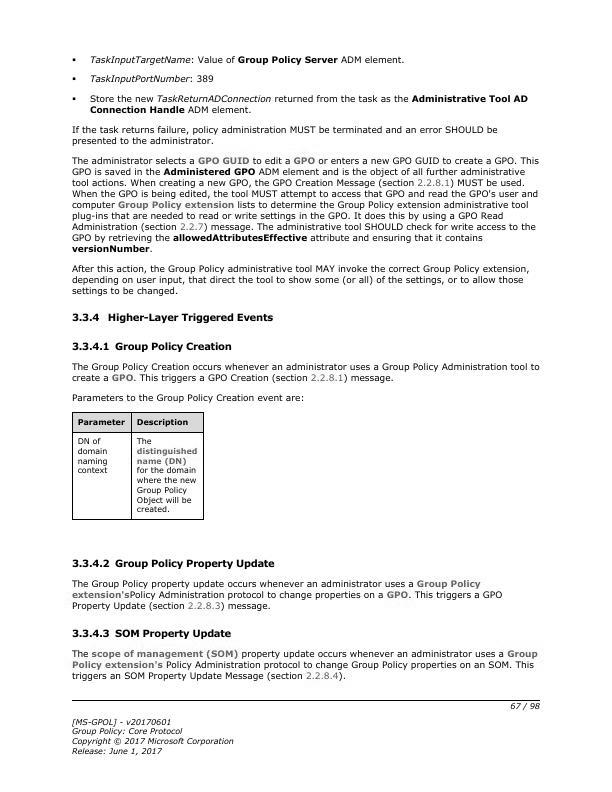table: (73, 412, 204, 520)
text: (69, 154, 541, 256), (69, 647, 540, 685), (68, 262, 530, 297), (70, 579, 506, 613), (69, 360, 541, 385), (88, 92, 529, 116), (69, 122, 501, 146), (70, 714, 235, 756), (87, 53, 406, 66), (70, 391, 306, 404), (69, 557, 277, 571), (70, 311, 275, 325), (67, 625, 233, 641), (68, 340, 234, 353), (88, 71, 216, 86)
